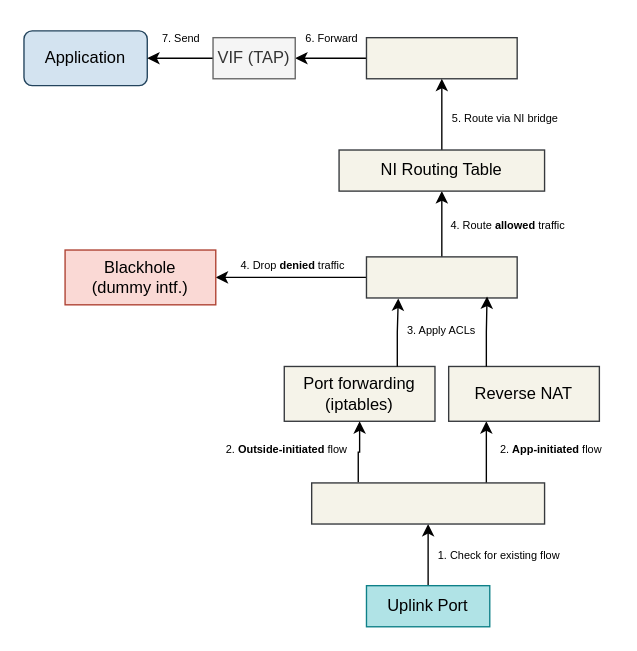
The diagram is 637 pixels wide and 651 high, and some of its shapes have lost their labels. The shapes that lost their labels are listed below. From the top down, each one's centre as x and y in pixels, then its label:
At pixel 441 57: "NI Bridge".
At pixel 441 277: "ACLs (iptables)".
At pixel 427 503: "Conntrack".
